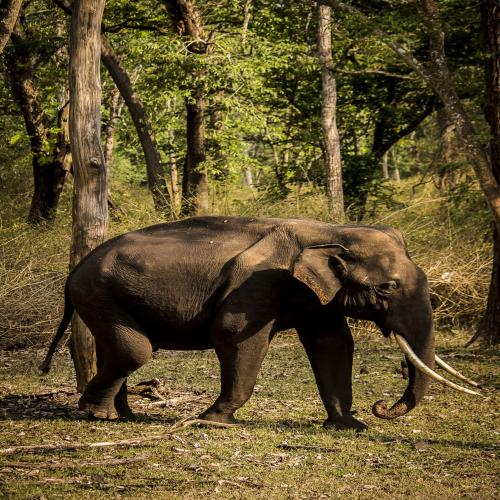asian_elephant-endangered: (38, 216, 480, 430)
